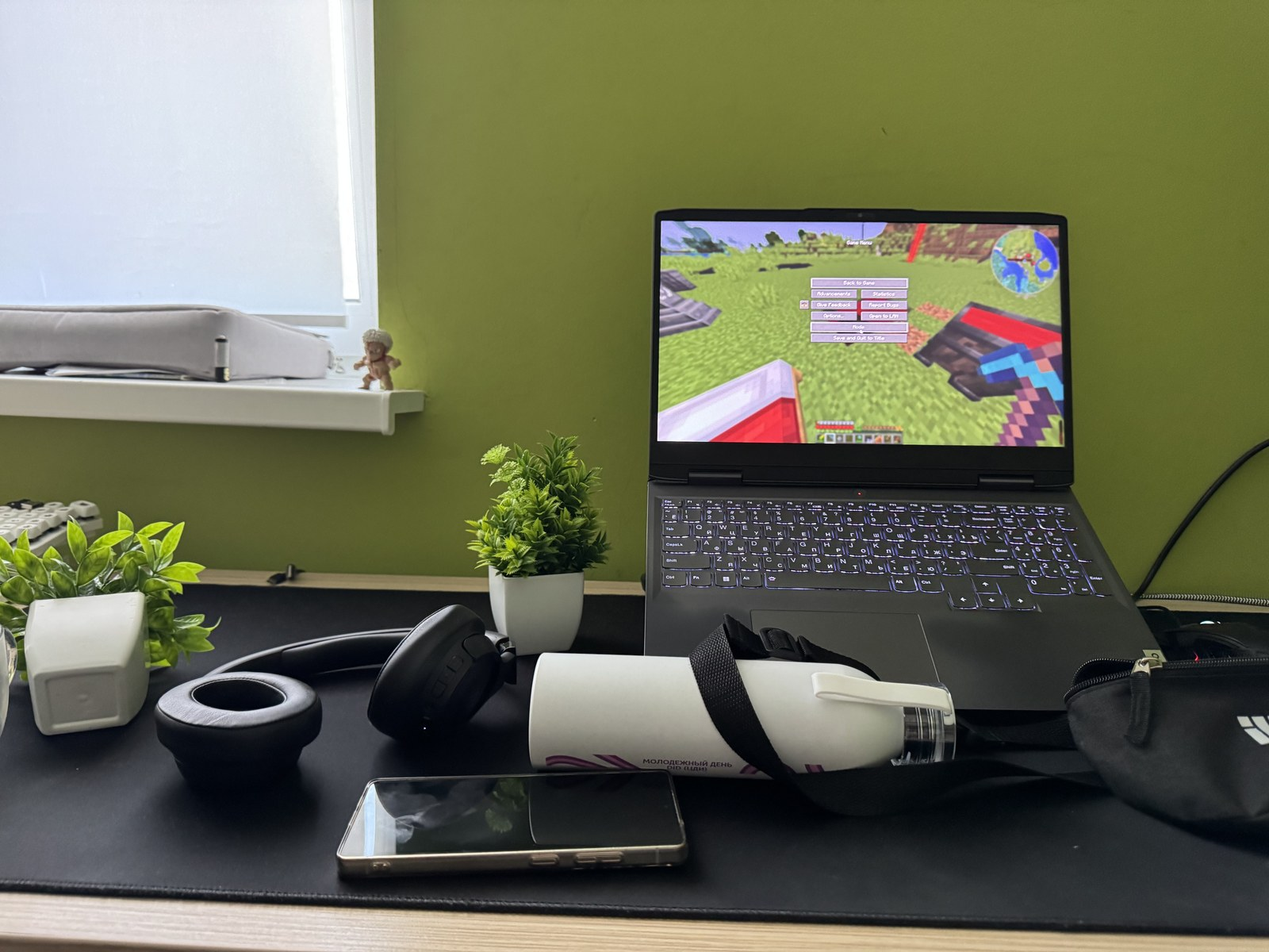cell phone: (334, 769, 689, 879)
laptop: (642, 207, 1167, 713)
